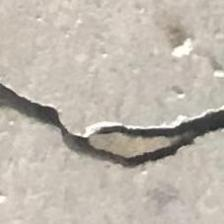Crack: (0, 70, 224, 162)
